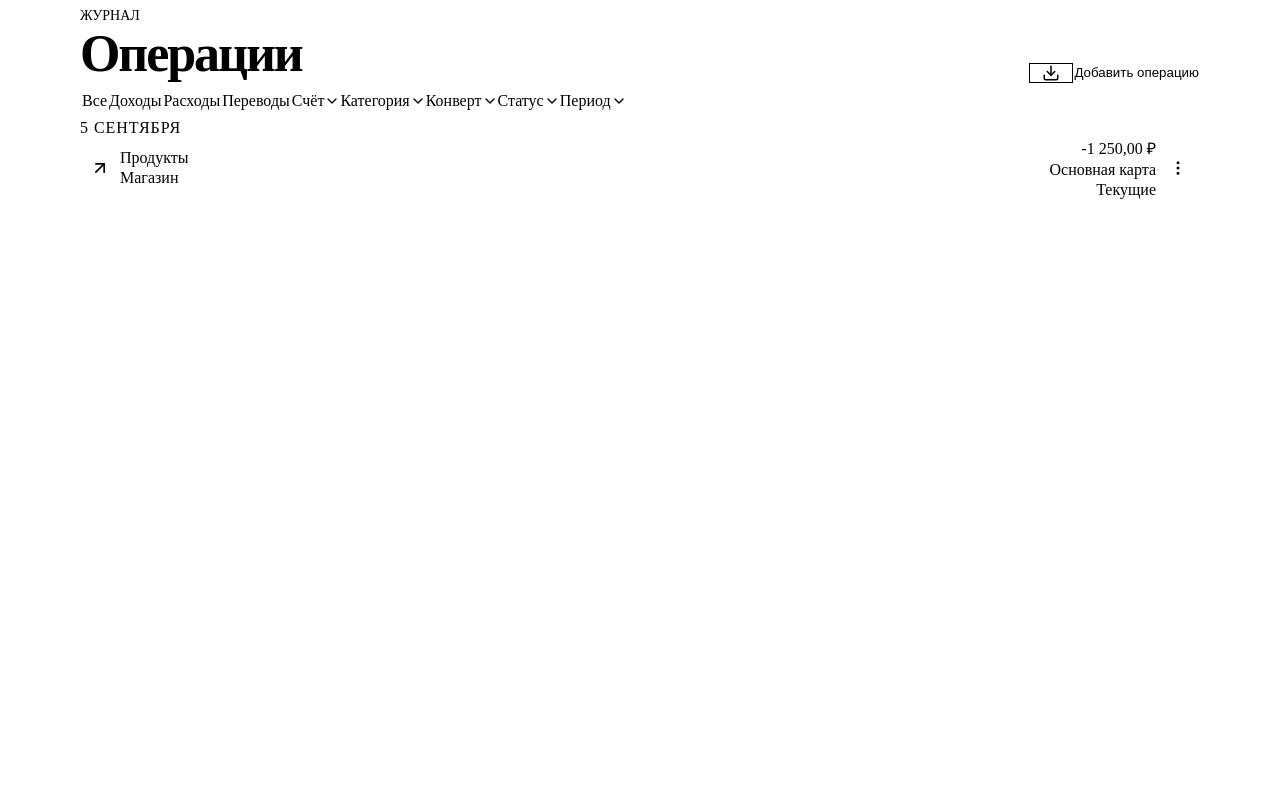
operations page (v2 journal) › opens the dialog from a row and reads the audit from the model-agnostic route
What coordinates should you click on to do the following:
click the button with test id "list-row-select"
I would click on:
 (154, 158)
Its box is top-left (80, 137), bottom-right (1156, 199).
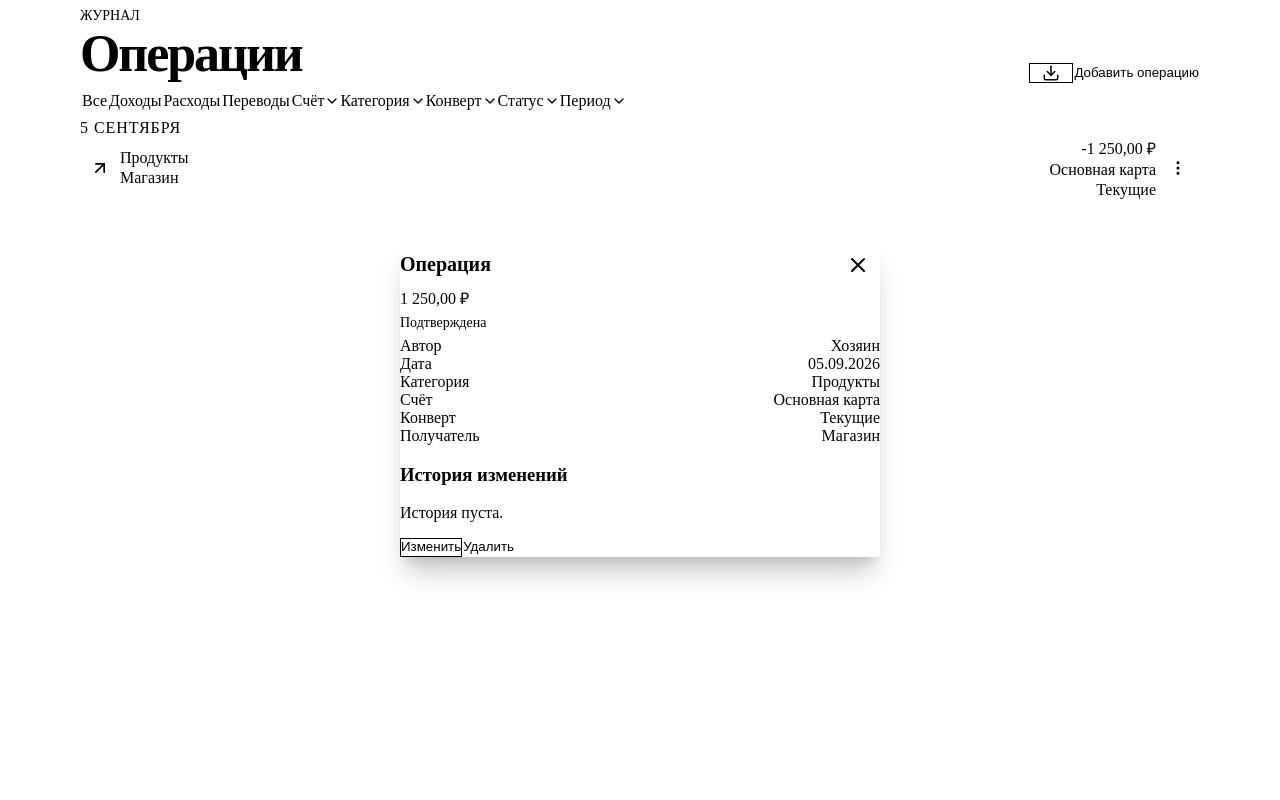
expect the dialog with test id "modal" is shown: met, box top-left (400, 243), bottom-right (880, 557)
